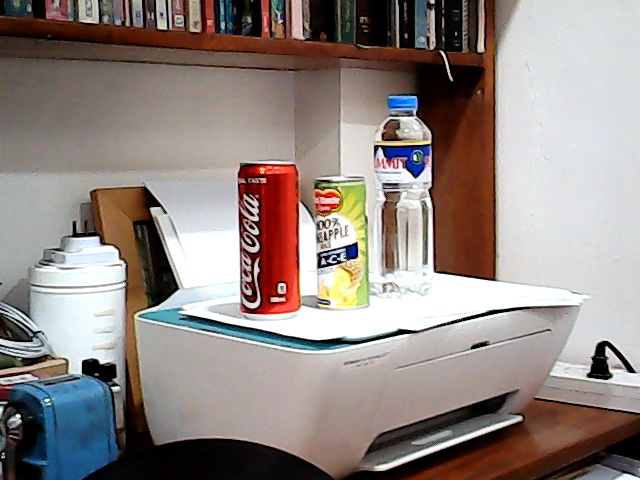Cola: (231, 151, 305, 326)
Pine Juice: (307, 169, 376, 316)
Summit Water: (370, 84, 445, 304)
